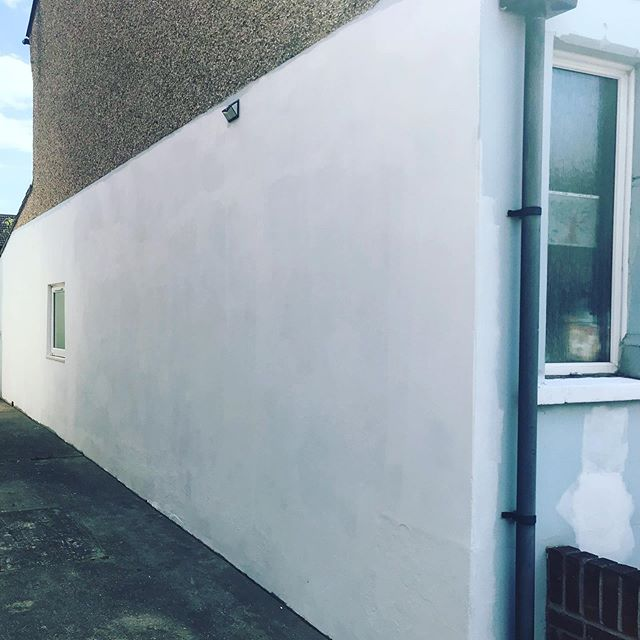building: (15, 1, 640, 640)
window: (531, 68, 640, 380), (43, 280, 71, 364)
